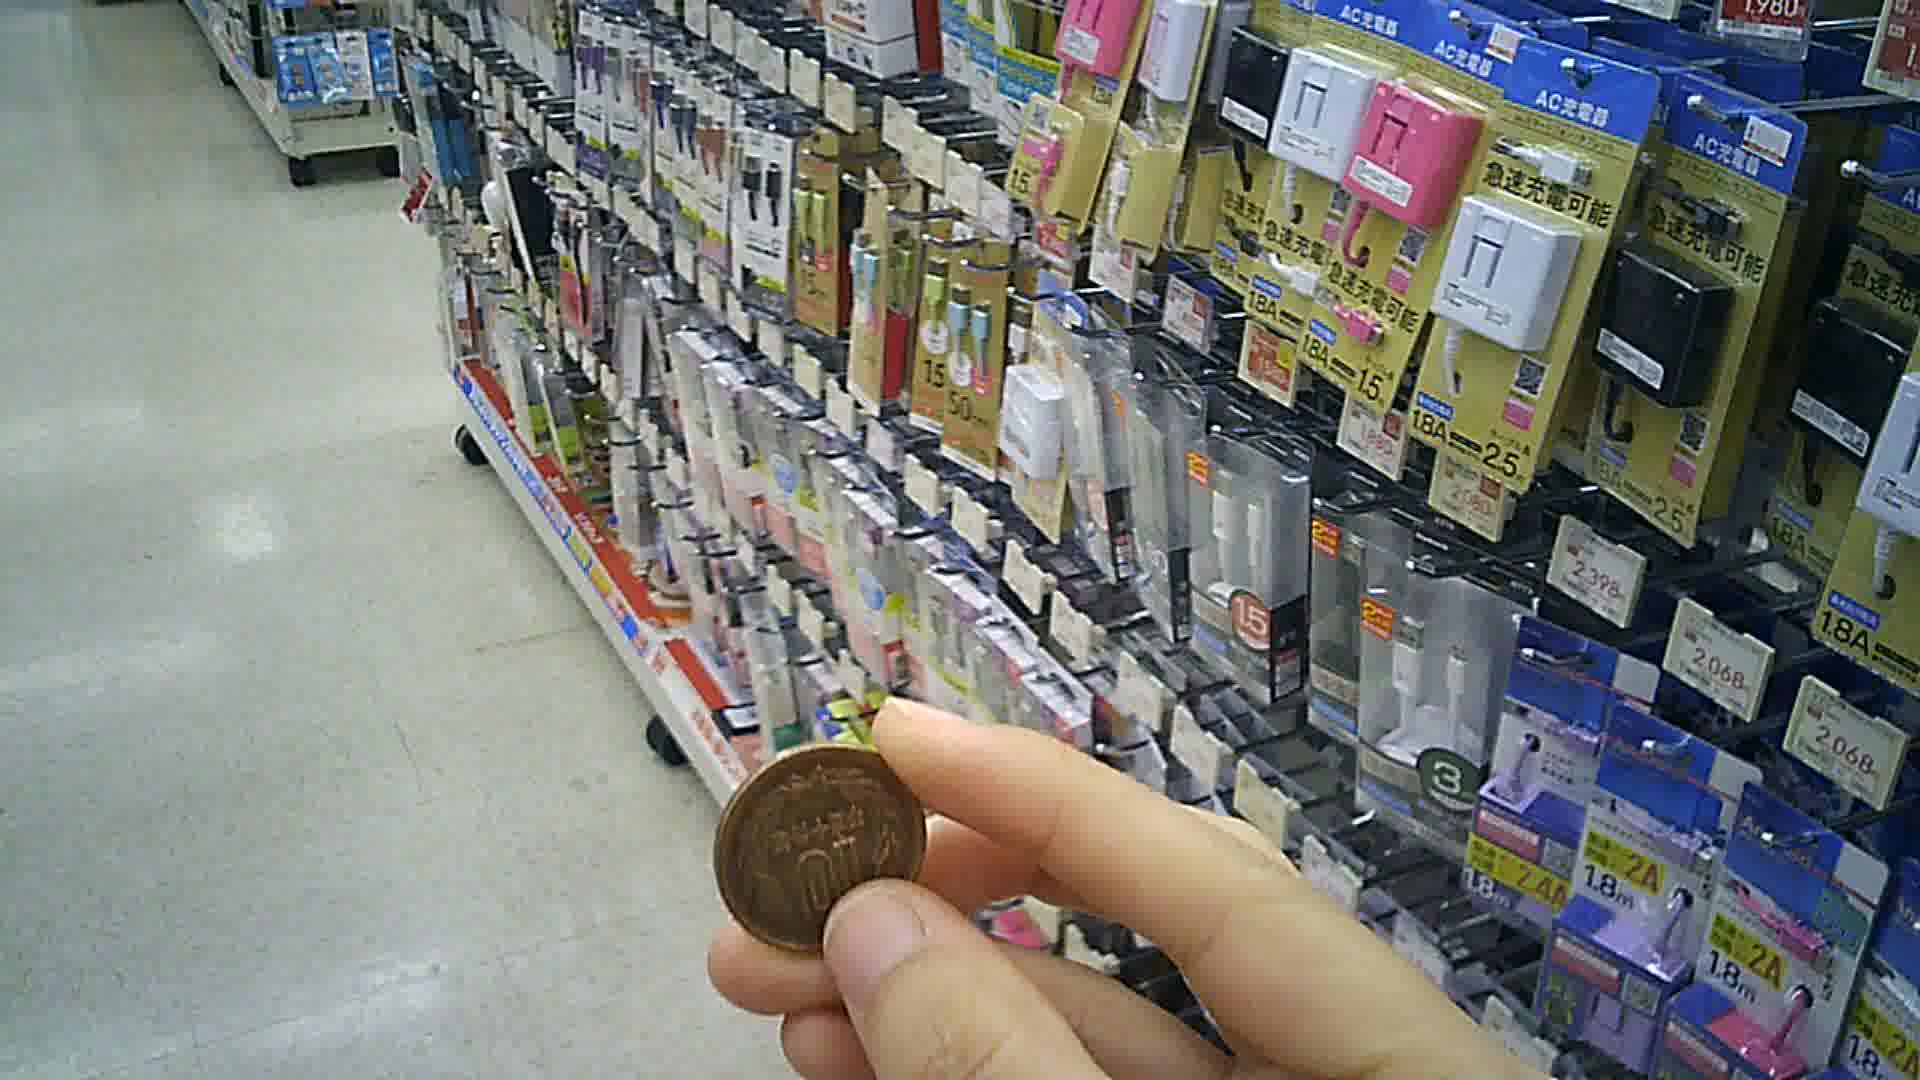10 Yen: (713, 742, 932, 949)
